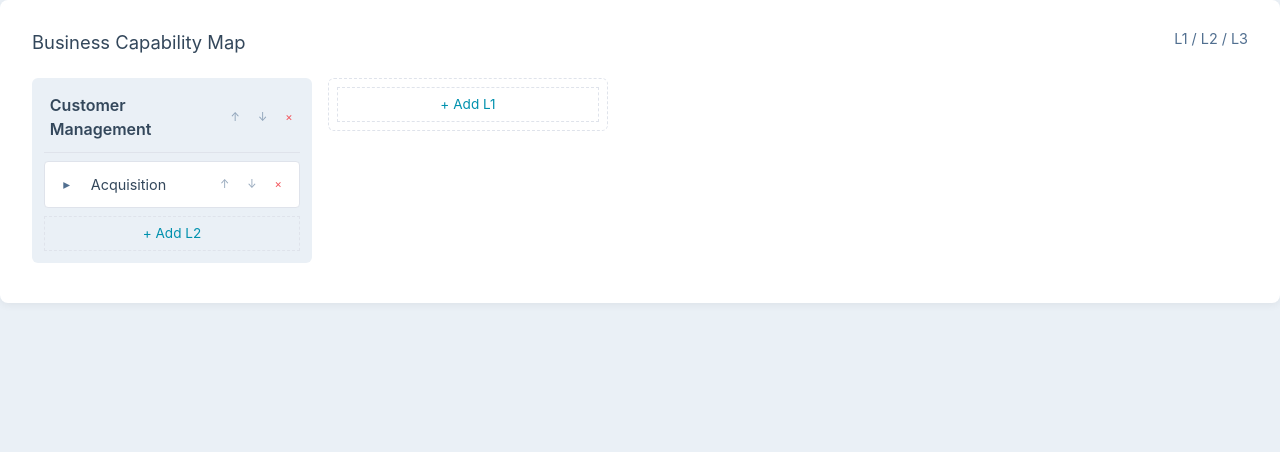
Scenario: KanbanBoard › renders a loaded tree with L1, L2, and the L3 visible after expanding
Expected: the button "Customer Management" is shown, [50,95,152,139]
Expected: the button "Acquisition" is shown, [91,176,166,193]
Click the button named "expand l2".
click(67, 185)  # box [55,173,79,196]
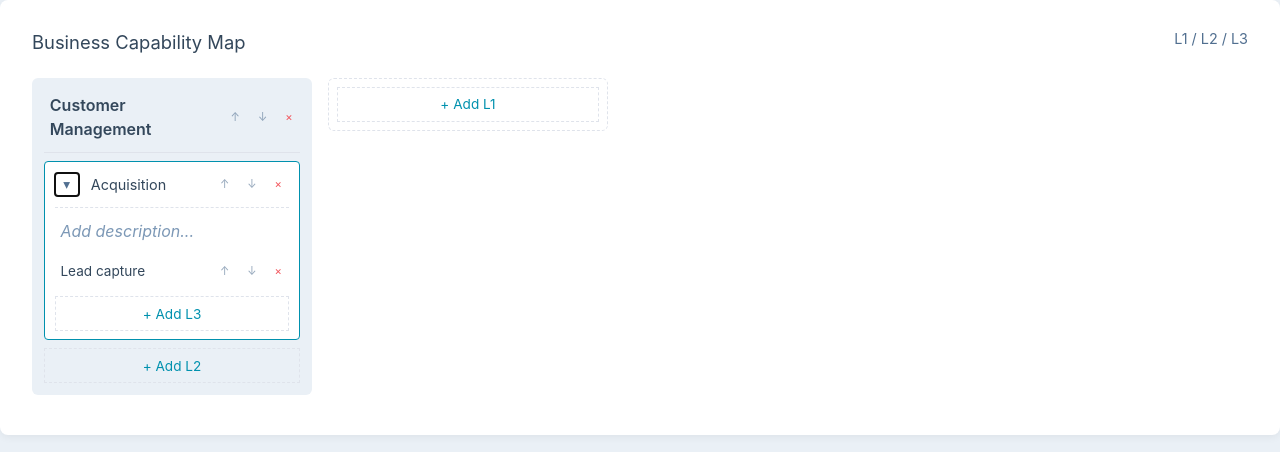
Now the button "Lead capture" is shown, box [60,263,145,279]
